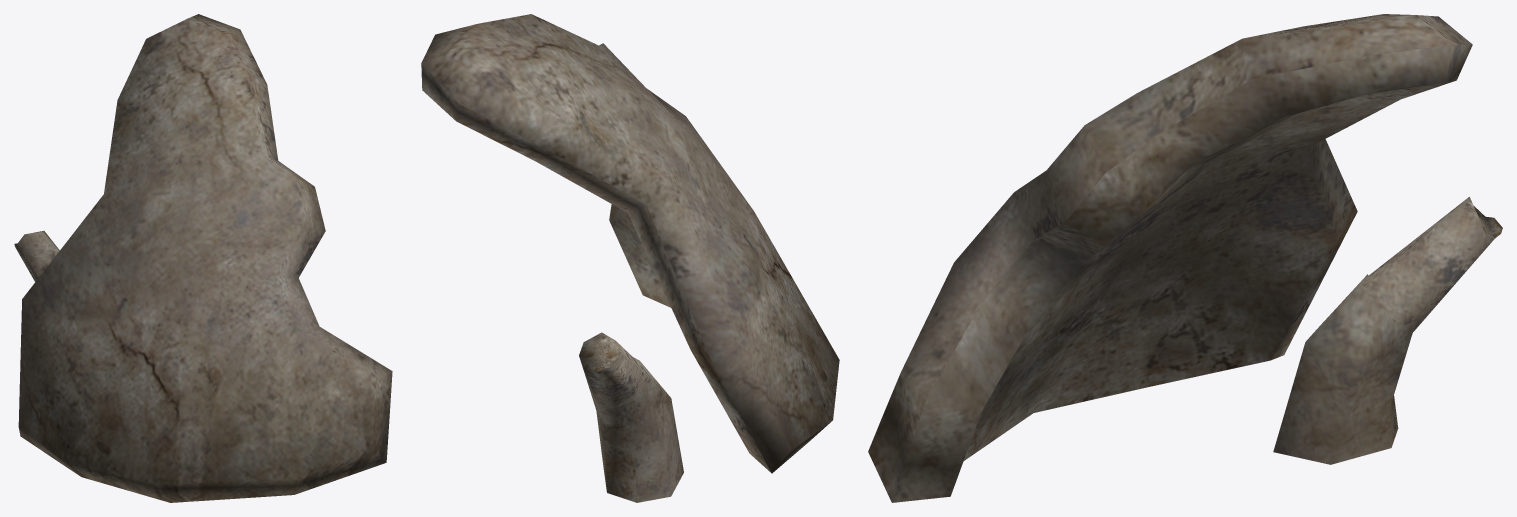
File: Co_A_DinoBone06.FBX
3 views of the same model, side by side, from view 1: azimuth 30°, elevation 25°; view 2: azimuth 150°, elevation 25°; view 3: azimuth 270°, elevation 25° (orthographic). The views are drawn at different scales.
Parts seen in each view (by area): view 1: Co_A_DinoBone06; view 2: Co_A_DinoBone06; view 3: Co_A_DinoBone06.
Boxes of the visible parts, box(x1,y1,x2,y2) form: Co_A_DinoBone06: box(14, 14, 392, 502); Co_A_DinoBone06: box(421, 14, 839, 502); Co_A_DinoBone06: box(868, 14, 1502, 502).
Size of the model in its own units: 339 by 431 by 483.
